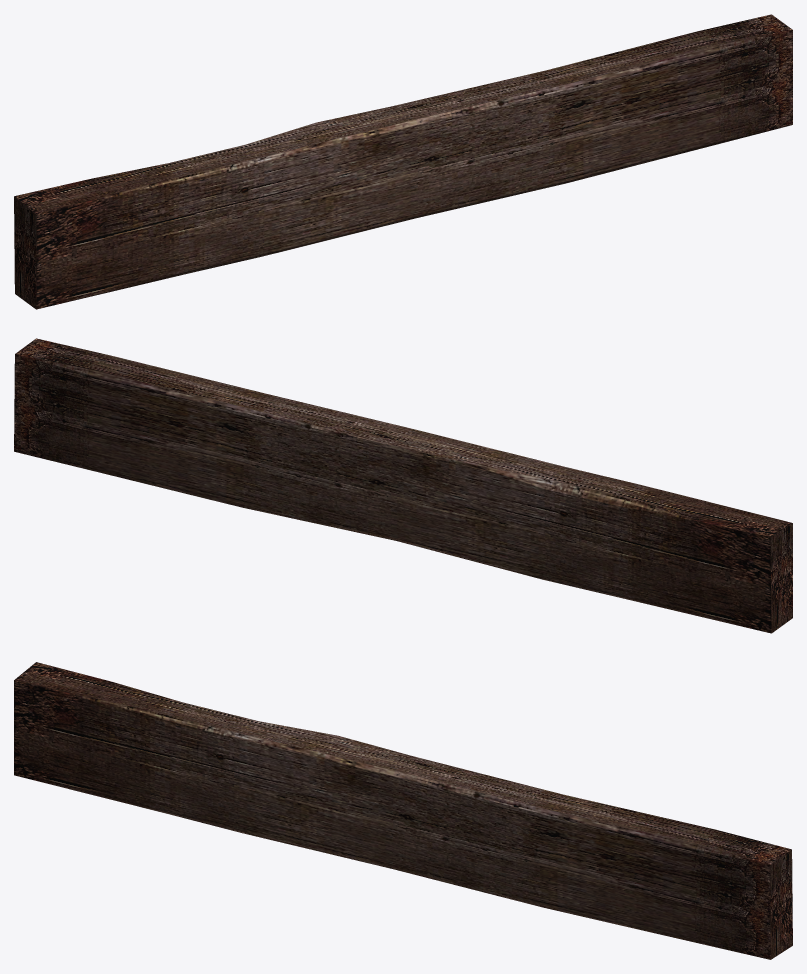
File: 9m_wood_beam.fbx
The picture shows the model from 3 angles, top to bottom: view 1: azimuth 30°, elevation 25°; view 2: azimuth 150°, elevation 25°; view 3: azimuth 330°, elevation 25°; orthographic projection.
Parts seen in each view (by area): view 1: mesh_0; view 2: mesh_0; view 3: mesh_0.
Part boxes in pixels (x1,y1,x2,y2): mesh_0: (14,14,792,309); mesh_0: (14,338,792,633); mesh_0: (14,662,792,959).
Size of the model in its own units: 800 by 101 by 44.73.
Materials: 1 (1 with a texture image).
